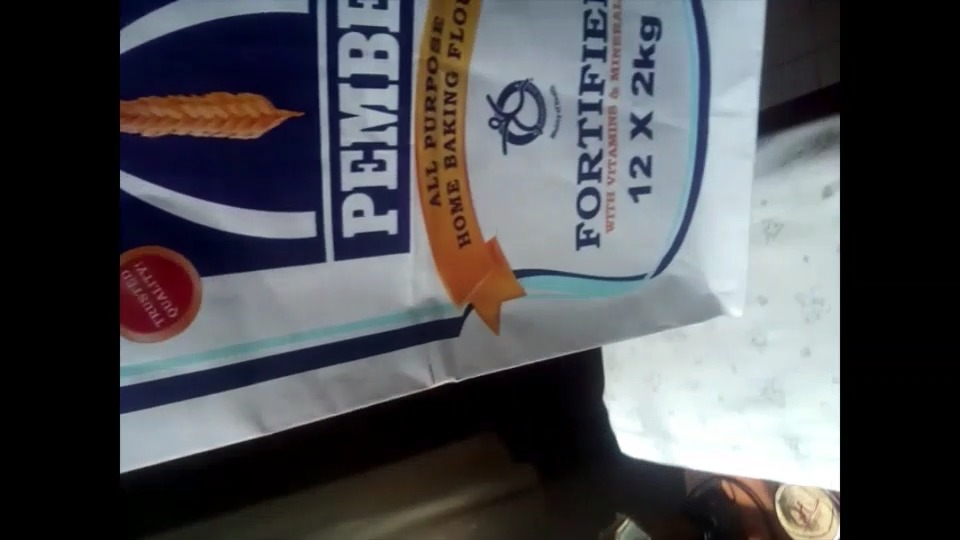wheat_flour_blue_label: (117, 2, 764, 465)
